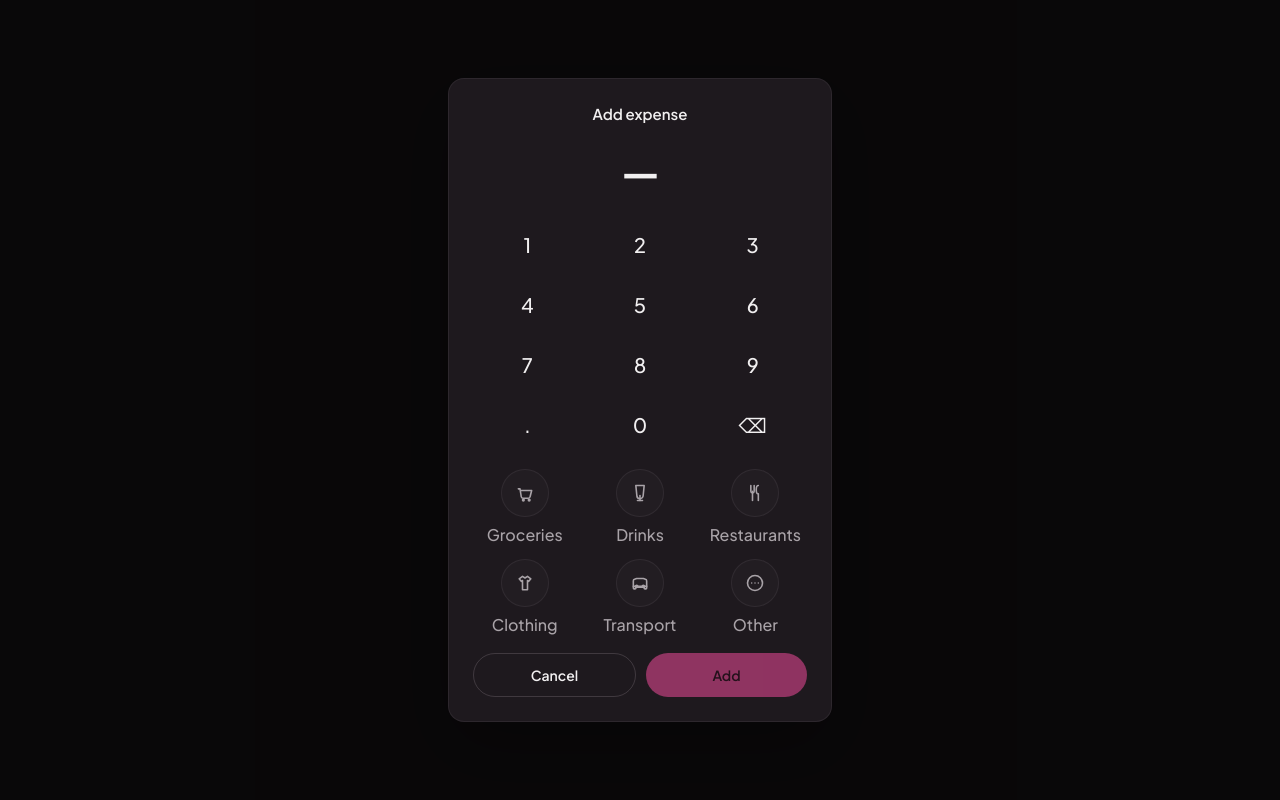
it: AddExpenseModal › disables Confirm until an amount and a category are both set
Check: the button "Add" is disabled, box [646, 653, 807, 697]
Click the button "5" at point(640, 305), box [586, 277, 694, 333]
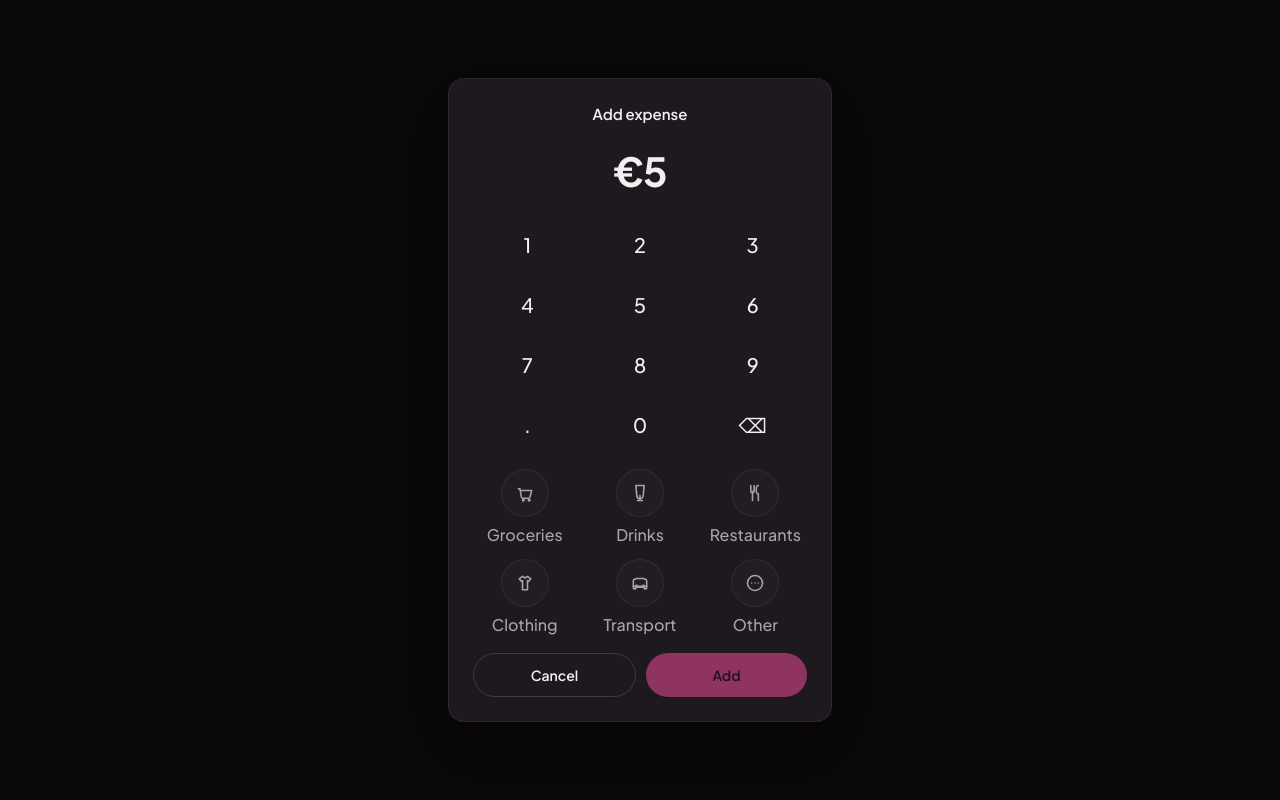
Check: the button "Add" is disabled, box [646, 653, 807, 697]
Click the button "Groceries" at point(525, 508), box [473, 469, 576, 547]
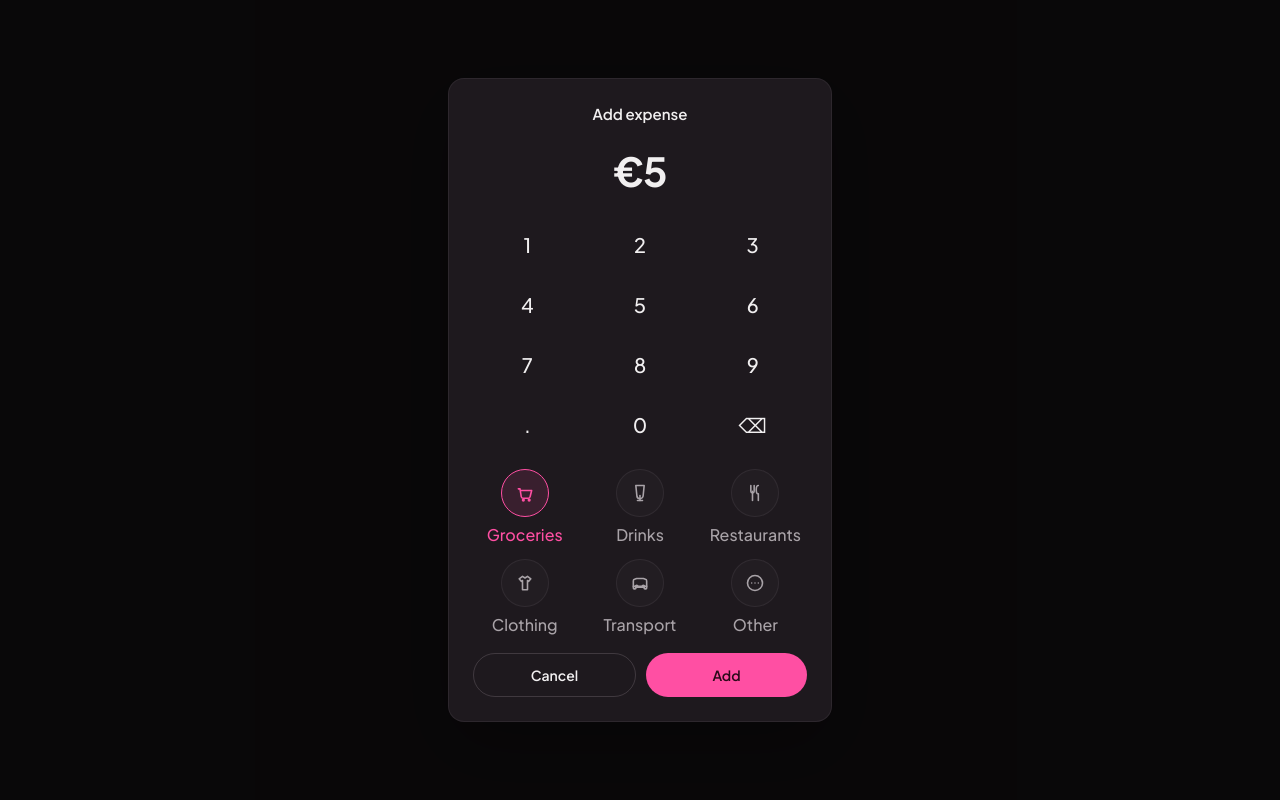
Check: the button "Add" is enabled, box [646, 653, 807, 697]
